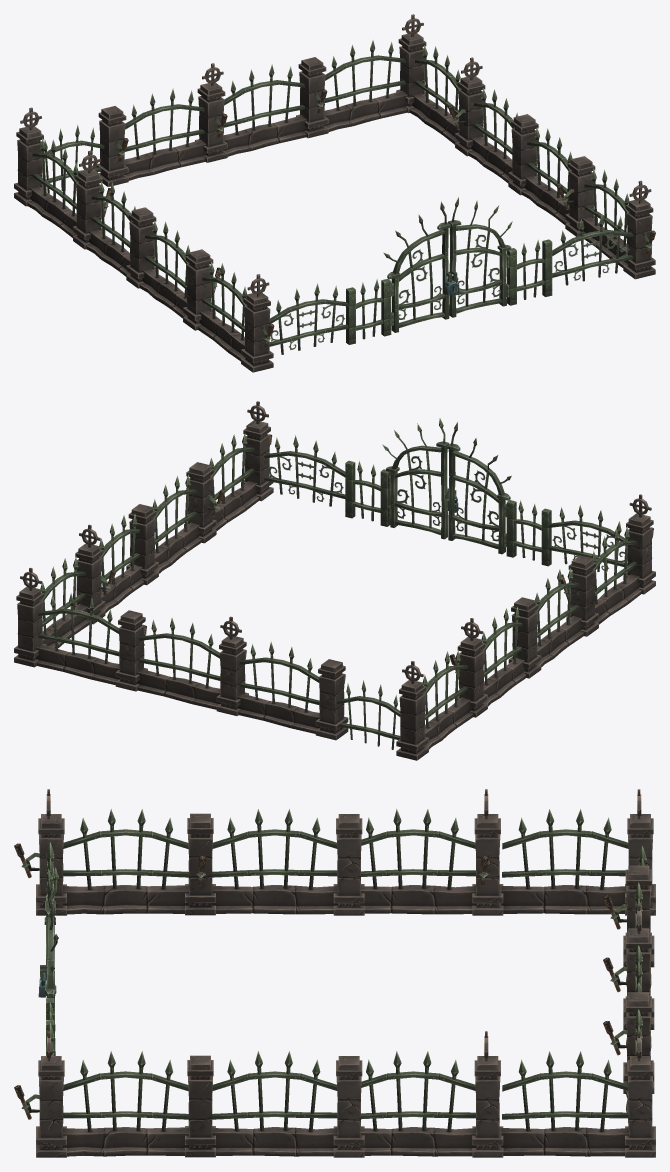
The picture shows the model from 3 angles, top to bottom: view 1: azimuth 30°, elevation 25°; view 2: azimuth 150°, elevation 25°; view 3: azimuth 270°, elevation 25°; orthographic projection. The views are drawn at different scales.
Parts seen in each view (by area): view 1: fence_01_011, fence_01_010, fence_01_003, fence_01_009, fence_01_000, fence_01_008, fence_01_005, fence_01_004, fence_01_002, fence_01_007, fence_01_006, gates_01_003 (+10 smaller); view 2: fence_01_011, fence_01_003, fence_01_010, fence_01_000, fence_01_008, fence_01_005, fence_01_009, fence_01_007, fence_01_004, fence_01_002, fence_01_006, gates_01_003 (+10 smaller); view 3: fence_01_002, fence_01_004, fence_01_005, fence_01_008, fence_01_006, fence_01_009, fence_01_007, fence_01_000, pillar_01_002, pillar_01_003, fence_01_010, fence_01_011 (+2 smaller).
Boxes of the visible parts, x1=… form: fence_01_011: x1=96, y1=88, x2=206, y2=186; fence_01_010: x1=195, y1=64, x2=306, y2=162; fence_01_003: x1=296, y1=40, x2=407, y2=138; fence_01_009: x1=198, y1=261, x2=273, y2=372; fence_01_000: x1=14, y1=126, x2=78, y2=237; fence_01_008: x1=126, y1=207, x2=190, y2=318; fence_01_005: x1=508, y1=114, x2=572, y2=224; fence_01_004: x1=580, y1=168, x2=655, y2=279; fence_01_002: x1=396, y1=33, x2=460, y2=144; fence_01_007: x1=73, y1=169, x2=135, y2=276; fence_01_006: x1=455, y1=76, x2=517, y2=183; gates_01_003: x1=383, y1=201, x2=451, y2=332; fence_01_011: x1=237, y1=641, x2=348, y2=740; fence_01_003: x1=36, y1=593, x2=147, y2=691; fence_01_010: x1=137, y1=617, x2=248, y2=715; fence_01_000: x1=396, y1=650, x2=473, y2=760; fence_01_008: x1=508, y1=568, x2=583, y2=678; fence_01_005: x1=126, y1=474, x2=201, y2=585; fence_01_009: x1=592, y1=513, x2=655, y2=624; fence_01_007: x1=457, y1=607, x2=526, y2=717; fence_01_004: x1=209, y1=420, x2=273, y2=530; fence_01_002: x1=14, y1=556, x2=89, y2=667; fence_01_006: x1=75, y1=514, x2=143, y2=624; gates_01_003: x1=447, y1=422, x2=511, y2=554; fence_01_002: x1=501, y1=1051, x2=655, y2=1157; fence_01_004: x1=36, y1=1051, x2=189, y2=1157; fence_01_005: x1=211, y1=1051, x2=364, y2=1157; fence_01_008: x1=211, y1=809, x2=364, y2=915; fence_01_006: x1=360, y1=1051, x2=503, y2=1157; fence_01_009: x1=36, y1=809, x2=189, y2=915; fence_01_007: x1=360, y1=809, x2=503, y2=915; fence_01_000: x1=501, y1=809, x2=655, y2=915; pillar_01_002: x1=185, y1=1055, x2=215, y2=1157; pillar_01_003: x1=185, y1=813, x2=215, y2=915; fence_01_010: x1=623, y1=928, x2=654, y2=1050; fence_01_011: x1=623, y1=865, x2=654, y2=987.
Size of the model in its own units: 26.17 by 7.49 by 27.77.
Materials: 10 (10 with a texture image).
